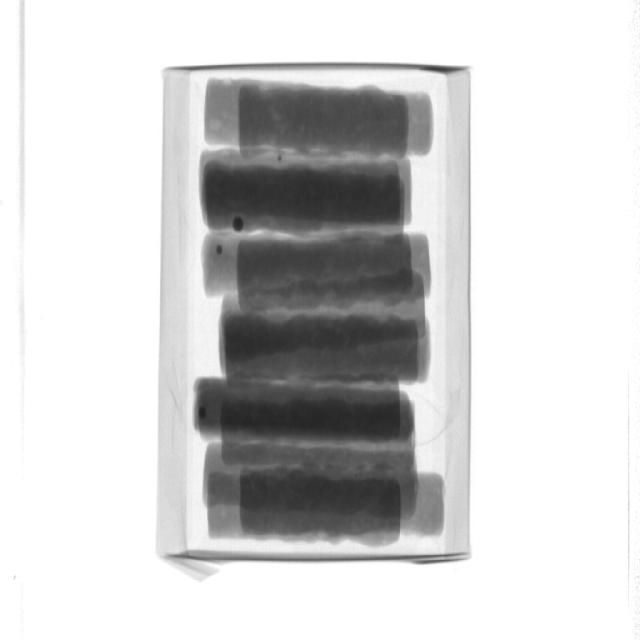ym: (235, 216, 247, 233), (278, 150, 284, 167), (202, 409, 209, 419), (217, 245, 224, 254)
